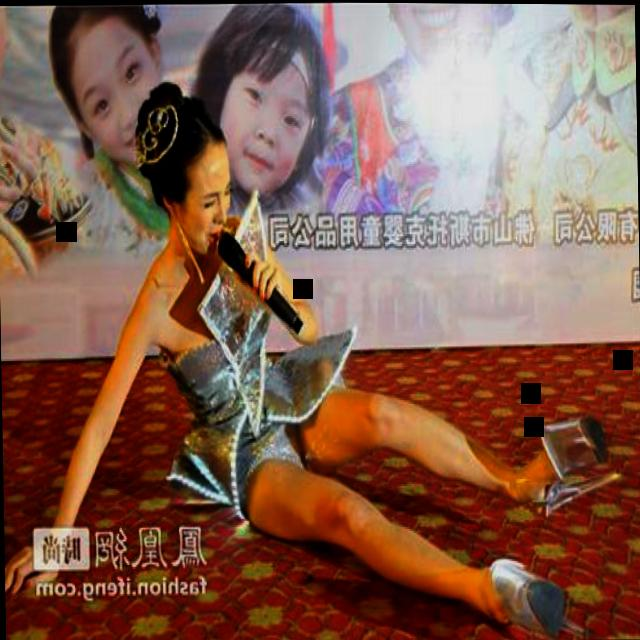Fall-Detected: (24, 0, 618, 640)
